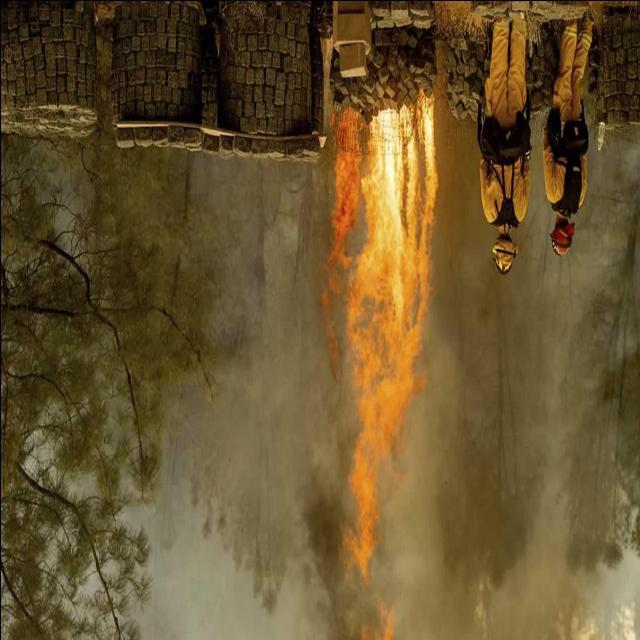Fire: (331, 103, 434, 622)
